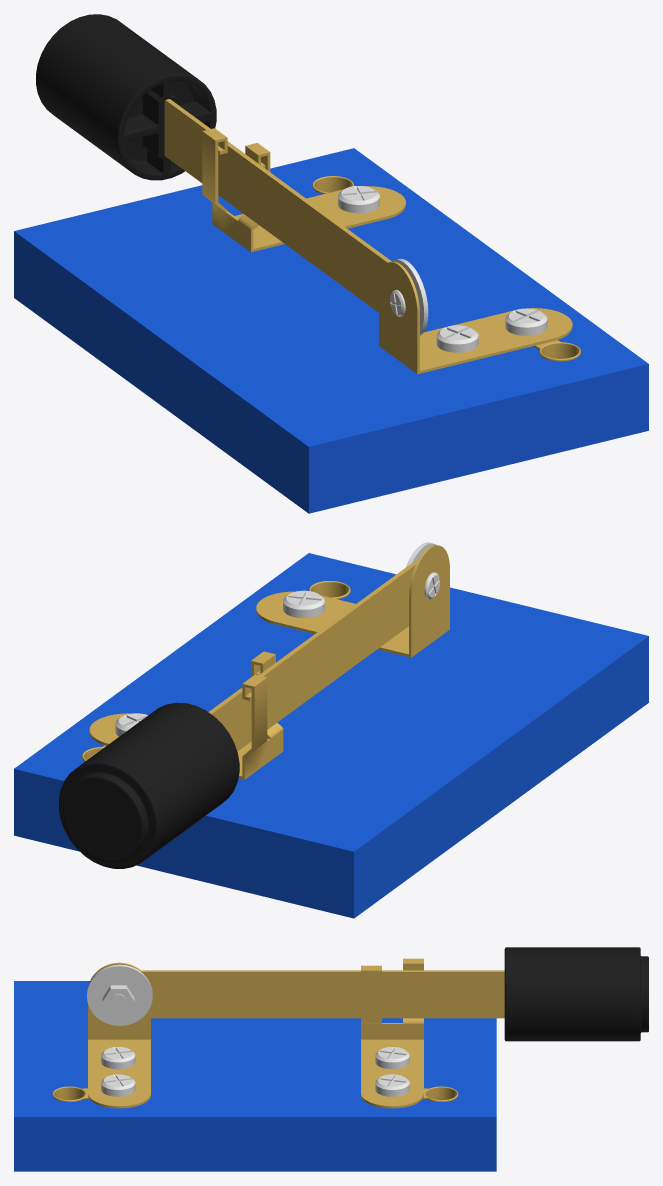
The model's file is opt_switch.fbx.
The picture shows the model from 3 angles, top to bottom: view 1: azimuth 30°, elevation 25°; view 2: azimuth 150°, elevation 25°; view 3: azimuth 270°, elevation 25°; orthographic projection. The views are drawn at different scales.
Visible parts, largest first — view 1: Body, Switch; view 2: Body, Switch; view 3: Body, Switch.
Boxes of the visible parts, x1,y1,x2,y2 form: Body: (14,128,648,513); Switch: (36,14,391,312); Body: (14,542,648,918); Switch: (59,560,417,868); Body: (14,958,496,1171); Switch: (139,947,648,1041).
Size of the model in its own units: 4 by 2.02 by 7.89.
